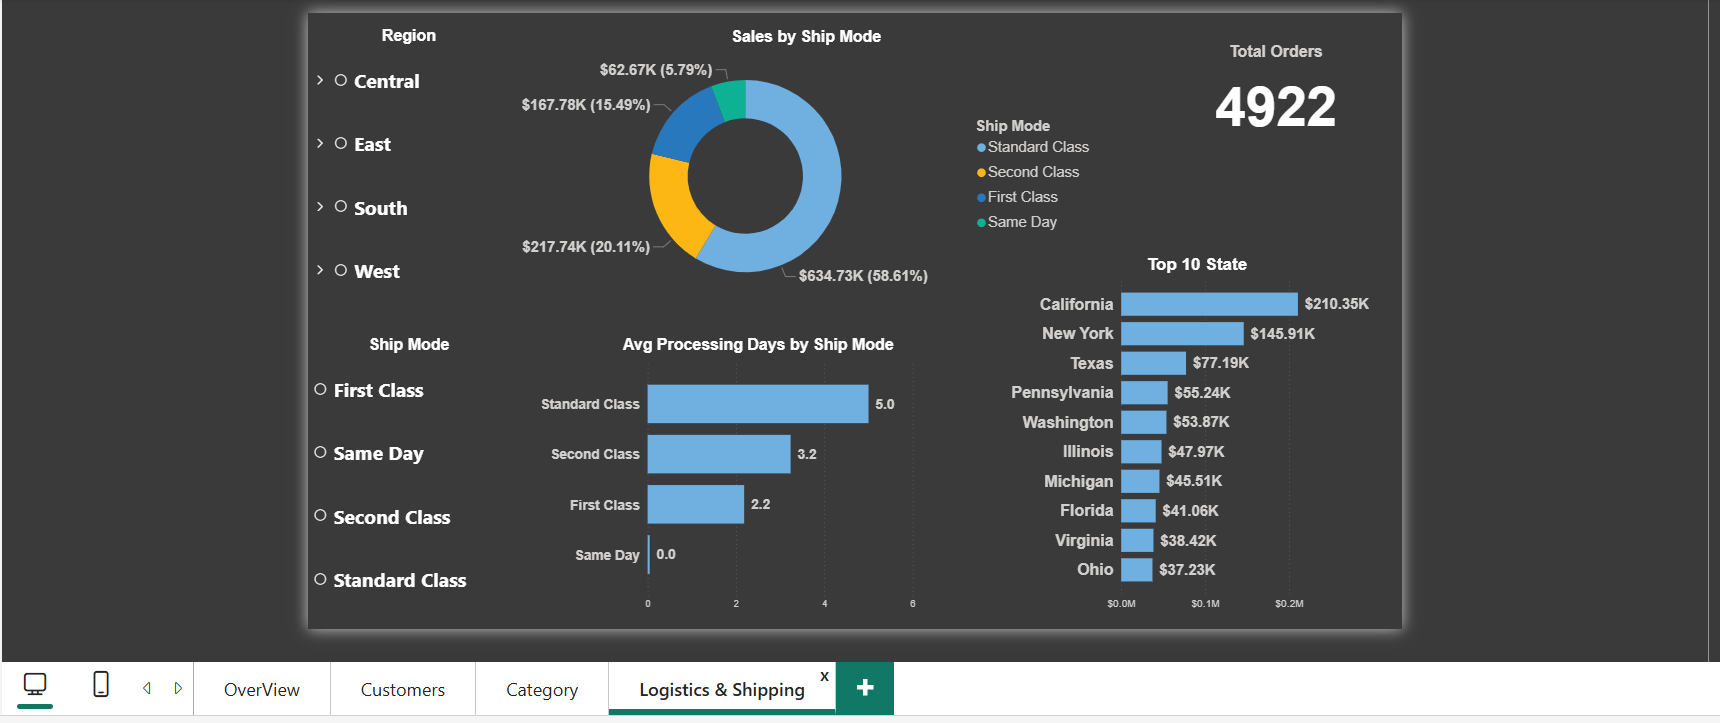

The page's visual inventory and layout, read from the dashboard file:
{"tool":"powerbi","page":{"name":"Logistics & Shipping","canvas":[1280,720],"ordinal":3},"visuals":[{"type":"donutChart","title":"Sales by Ship Mode","fields":{"Category":["train.Ship Mode"],"Y":["train.Total Sales"]},"box":[236.7,16.7,691.7,325],"z":1000},{"type":"barChart","fields":{"Category":["train.Ship Mode"],"Y":["train.Avg Processing Days"]},"box":[264.6,378,523.5,328.8],"z":2000},{"type":"listSlicer","fields":{"Values":["train.Region","train.State"]},"box":[0,15.1,236.2,326.9],"z":3000},{"type":"listSlicer","fields":{"Values":["train.Ship Mode"]},"box":[0,378,236.2,328.8],"z":4000},{"type":"card","fields":{"Values":["train.Total Orders"]},"box":[1040,30,183.3,128.3],"z":5000},{"type":"barChart","fields":{"Category":["train.State"],"Y":["train.Total Sales"]},"box":[816.4,277.8,447.9,429],"z":7000}]}

Visuals, with their boxes on the page's 1280x720 design canvas (x1, y1, x2, y2). These are canvas units, not pixel positions in the 1720x723 screenshot, which may show the page scaled, cropped or inside an application window:
"Sales by Ship Mode" donutChart: (x1=237, y1=17, x2=928, y2=342)
barChart - train.Ship Mode x train.Avg Processing Days: (x1=265, y1=378, x2=788, y2=707)
listSlicer - train.Region x train.State: (x1=0, y1=15, x2=236, y2=342)
listSlicer - train.Ship Mode: (x1=0, y1=378, x2=236, y2=707)
card - train.Total Orders: (x1=1040, y1=30, x2=1223, y2=158)
barChart - train.State x train.Total Sales: (x1=816, y1=278, x2=1264, y2=707)
